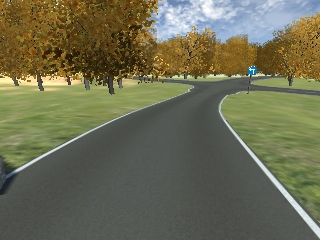left: (247, 65, 254, 76)
